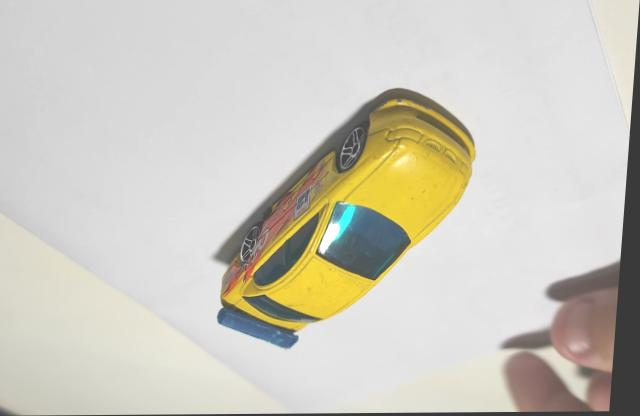02_OZSOME: (222, 87, 480, 348)
